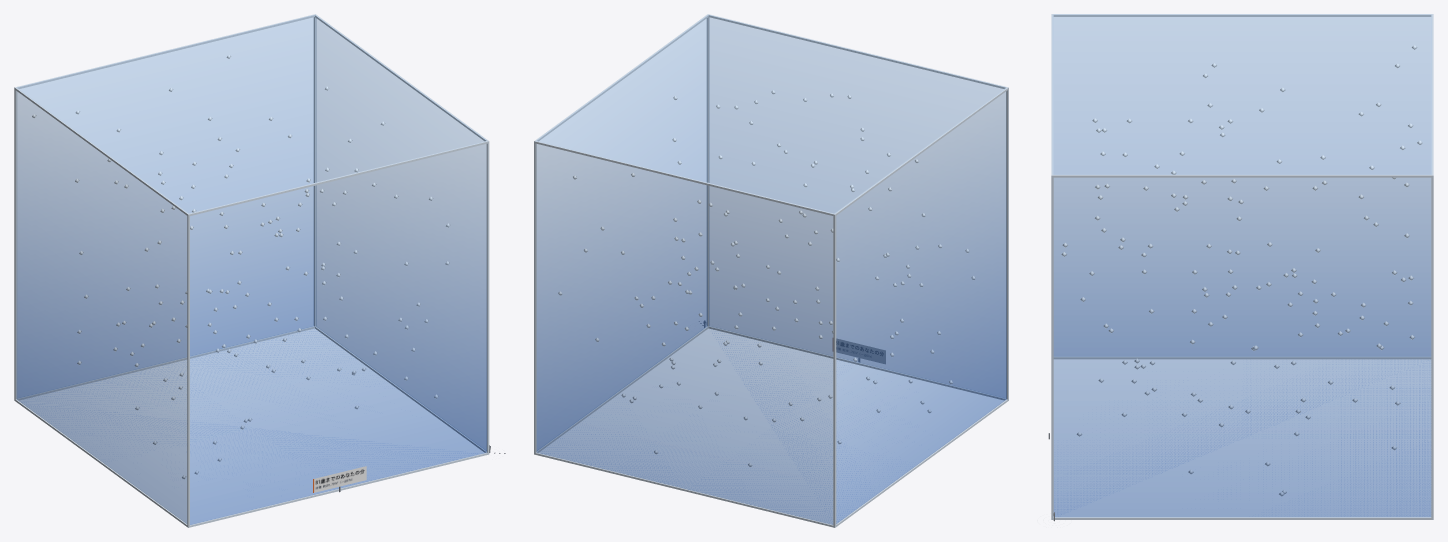
File: cube_life_81.glb
3 views of the same model, side by side, from view 1: azimuth 30°, elevation 25°; view 2: azimuth 150°, elevation 25°; view 3: azimuth 270°, elevation 25° (orthographic). The views are drawn at different scales.
Visible parts, largest first — view 1: co2, edge, dots, label; view 2: co2, edge, dots, label; view 3: co2, edge, dots.
Boxes of the visible parts, <box> form: co2: <box>16,15,486,524</box>; edge: <box>14,14,489,527</box>; dots: <box>32,55,450,479</box>; label: <box>313,466,366,492</box>; co2: <box>536,15,1006,524</box>; edge: <box>534,14,1008,527</box>; dots: <box>558,90,975,466</box>; label: <box>836,339,885,363</box>; co2: <box>1052,14,1431,516</box>; edge: <box>1051,14,1433,519</box>; dots: <box>1061,45,1422,496</box>.
Bounding box in the file's own units: 70.84 × 67.08 × 69.94.
8 materials, 3 textured.
